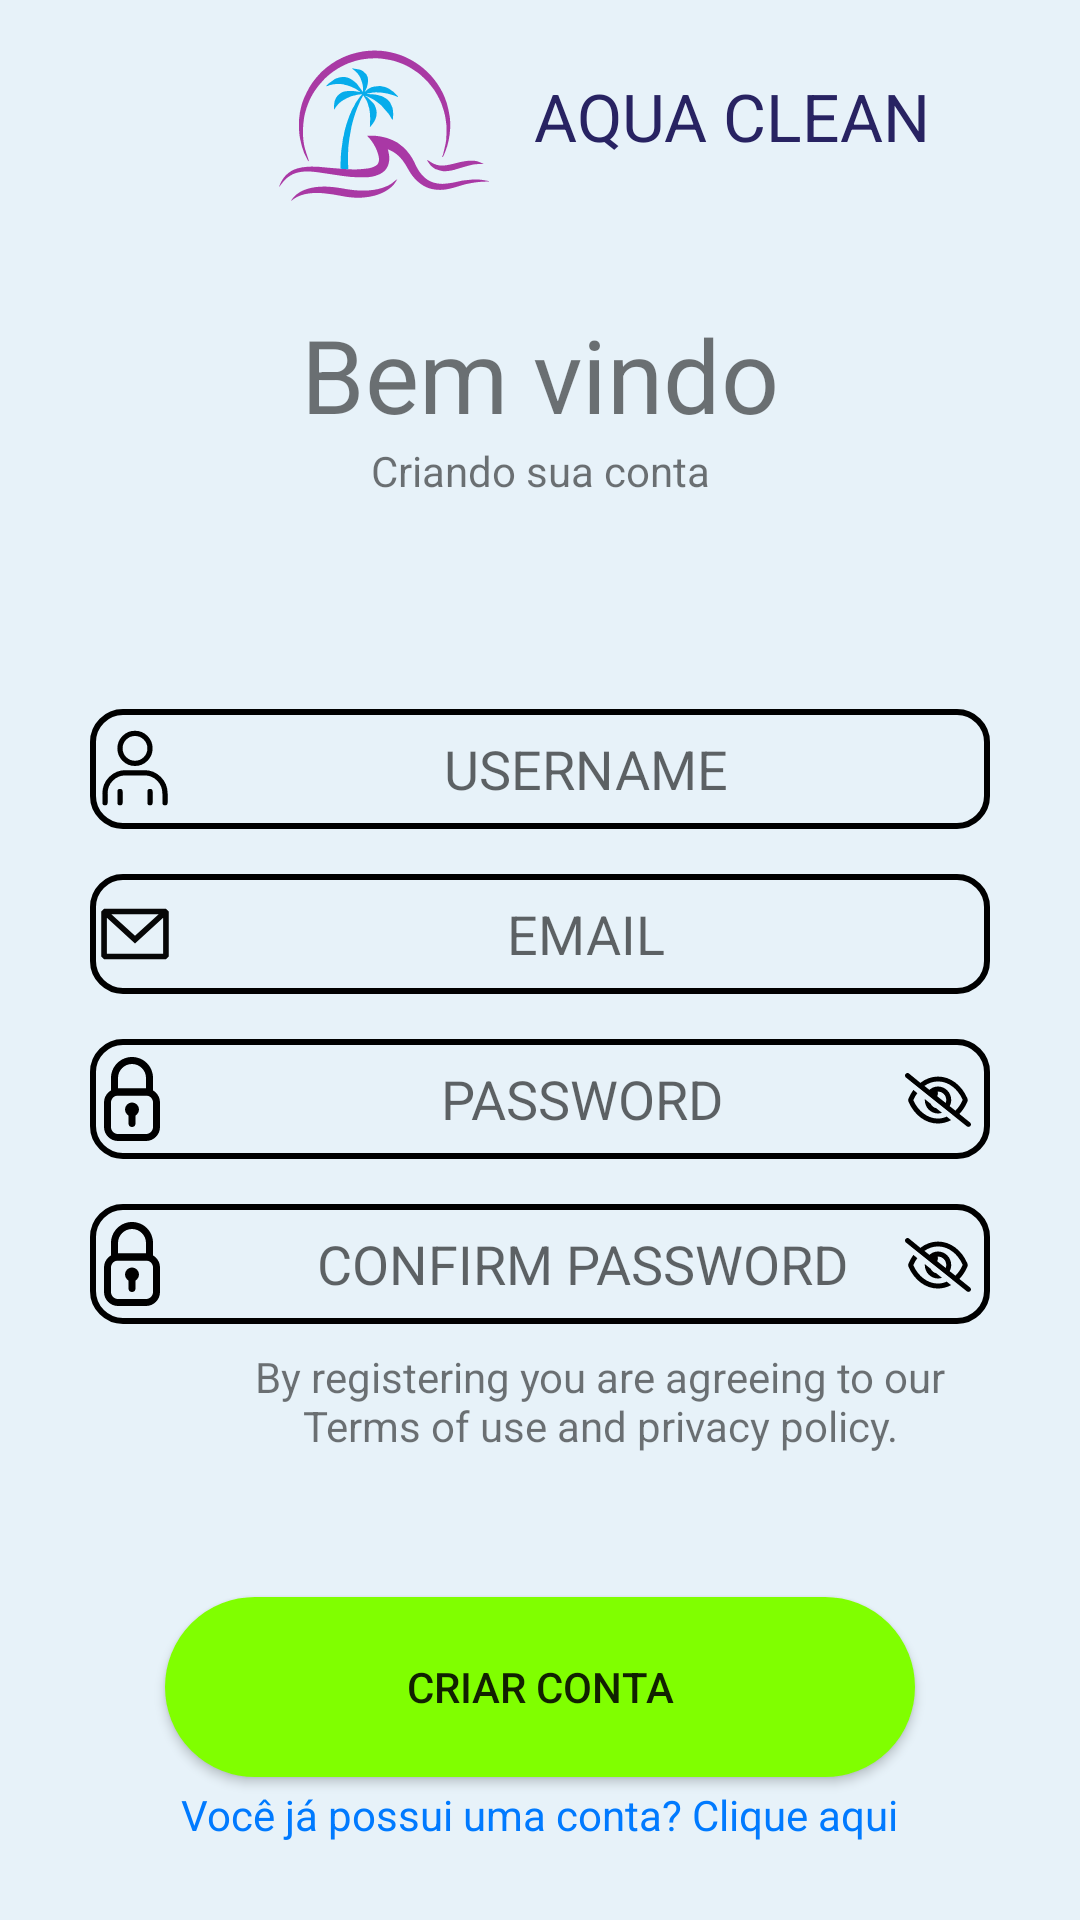

Icons on this 1080×1920 Android screen, each with the point to tap as (x=x, y=y):
olho fechado: (x=938, y=1100), (x=938, y=1265)
